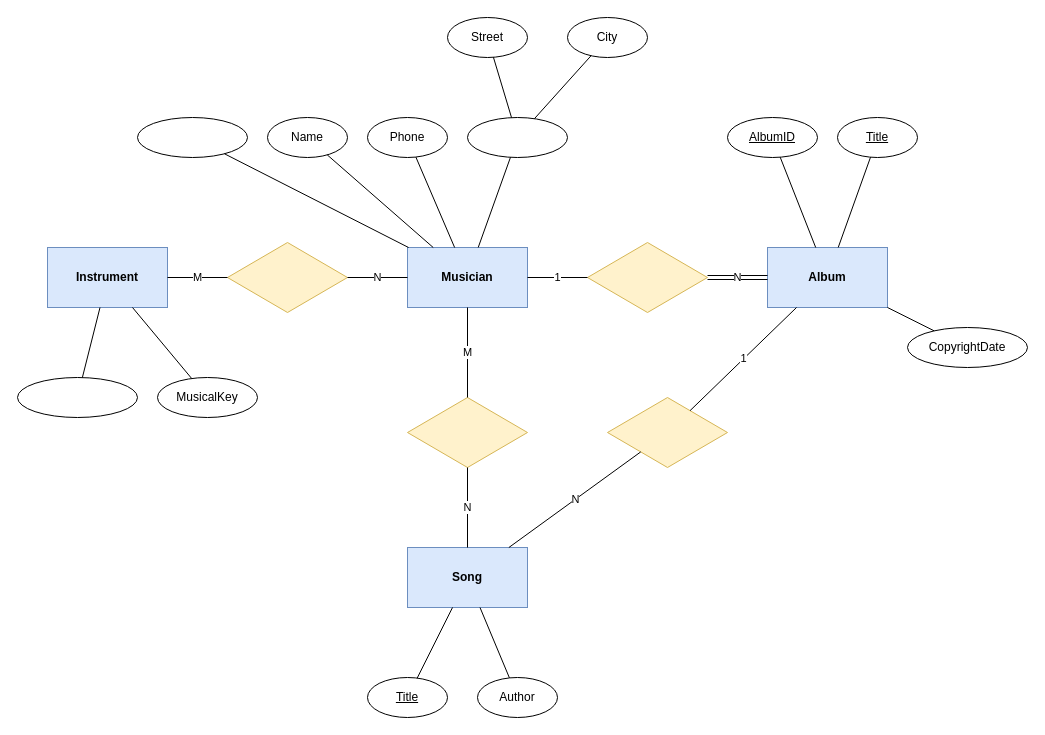
The diagram is 1045 pixels wide and 735 high, and some of its shapes have lost their labels. Here are the shapes that lost their labels. From the top down, the centre of each, then its label:
[192,137]: MusicianID
[517,137]: Address
[287,277]: Plays
[647,277]: Produces
[77,397]: InstrumentName
[467,432]: Performs
[667,432]: Contains
